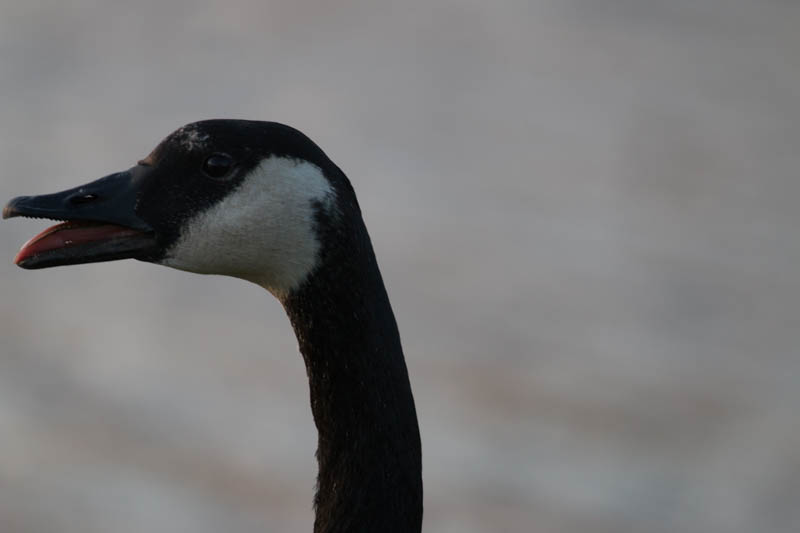goose-head: (1, 117, 364, 302)
